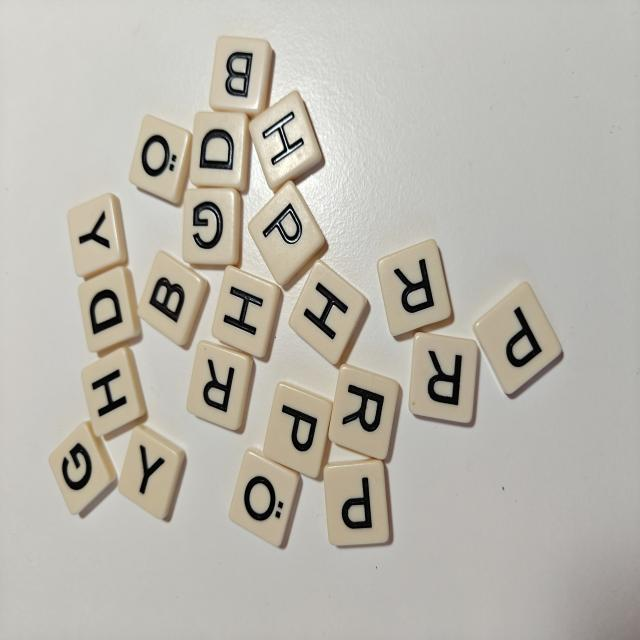b: (138, 251, 208, 345), (209, 36, 272, 117)
d: (79, 266, 141, 352), (190, 112, 250, 191)
g: (49, 422, 117, 515), (182, 188, 242, 266)
h: (289, 260, 366, 364), (249, 91, 322, 191), (212, 266, 280, 357), (81, 347, 146, 436)
o_dot: (229, 448, 299, 546), (130, 115, 191, 204)
p: (473, 282, 562, 394), (248, 181, 325, 285), (263, 382, 332, 477), (324, 459, 389, 545)
r: (377, 239, 451, 335), (328, 364, 399, 459), (408, 332, 478, 423), (187, 341, 253, 430)
y: (119, 425, 185, 519), (68, 194, 127, 279)
